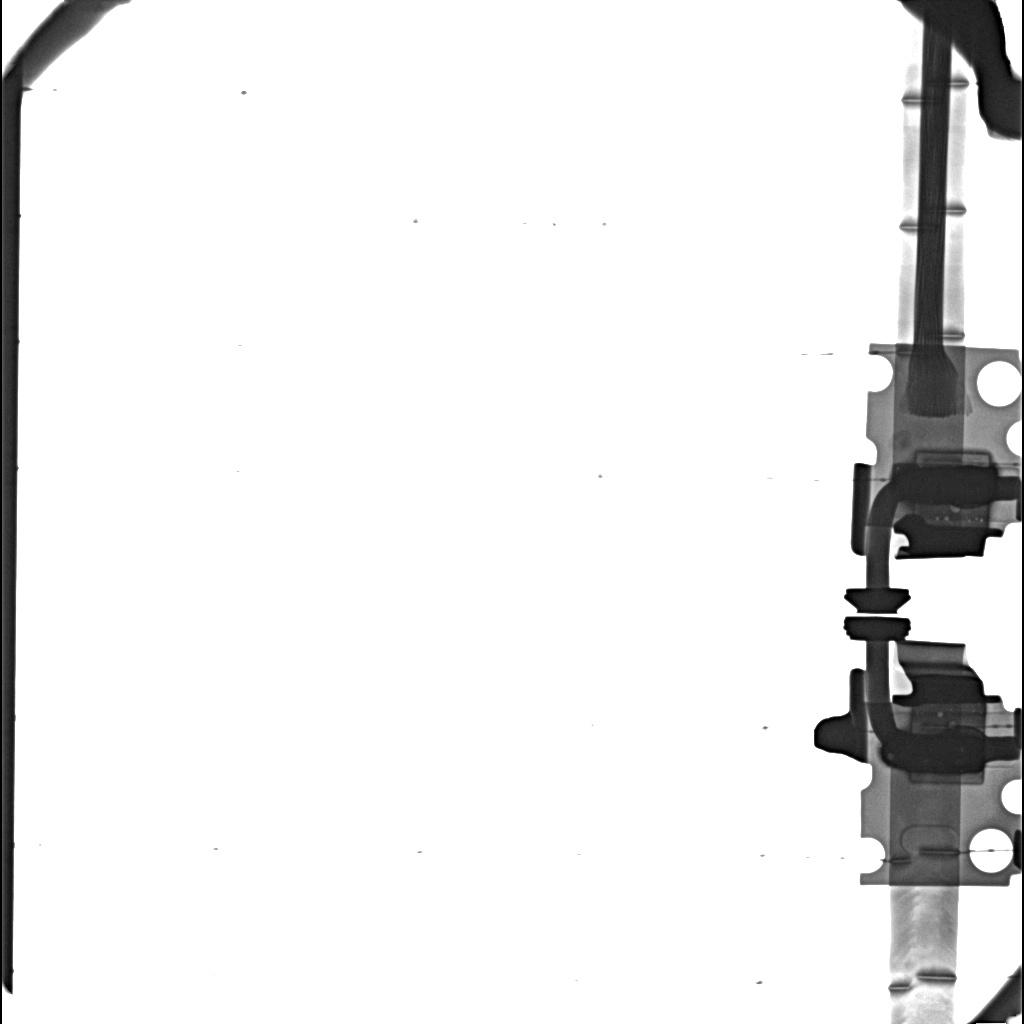气孔: (914, 450, 991, 465), (907, 772, 984, 785)
气泡: (951, 507, 960, 513), (937, 712, 944, 718)
水纹: (881, 733, 986, 774), (892, 465, 996, 505)
